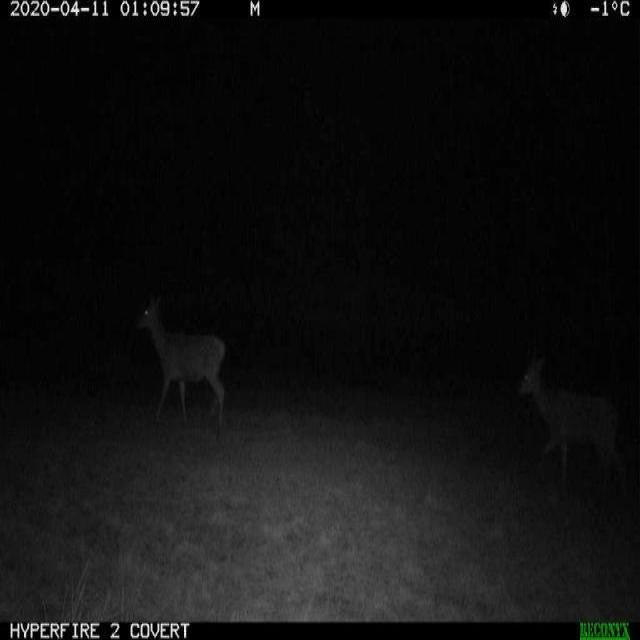deer: (508, 340, 624, 524), (125, 282, 232, 435)
